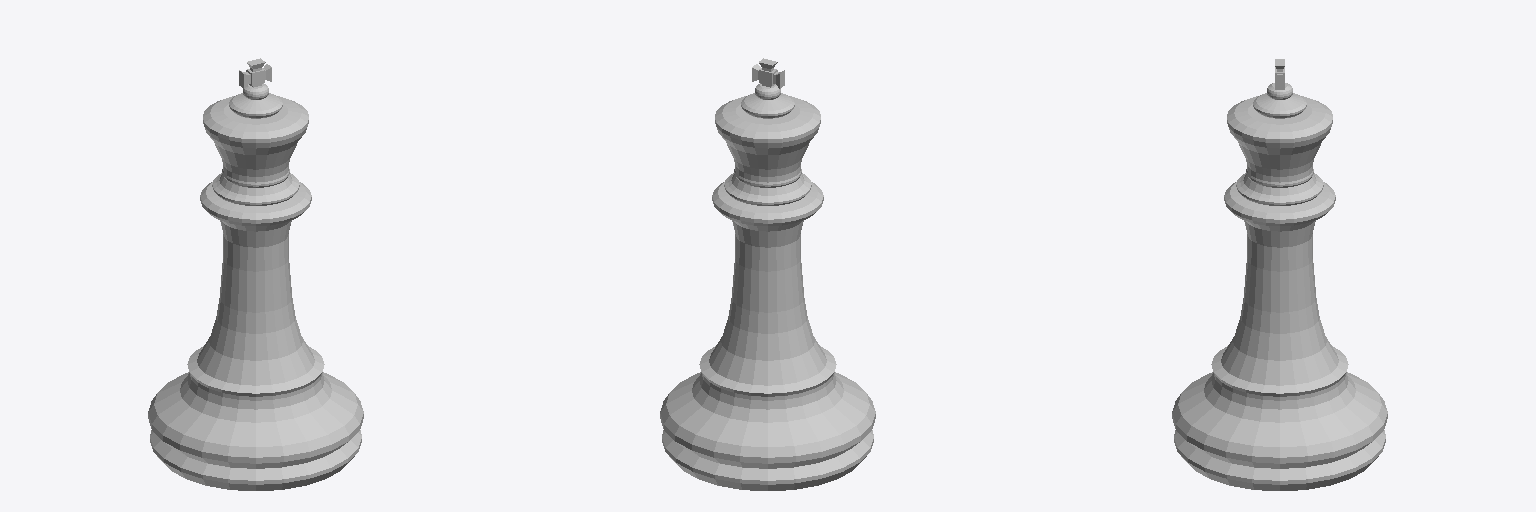
Rendered from king.obj.
The picture shows the model from 3 angles: view 1: azimuth 30°, elevation 25°; view 2: azimuth 150°, elevation 25°; view 3: azimuth 270°, elevation 25°; orthographic projection.
Visible parts, largest first — view 1: Mesh1_Model, Mesh2_Model; view 2: Mesh1_Model, Mesh2_Model; view 3: Mesh1_Model.
Part boxes in pixels (bbox=[...]): Mesh1_Model: bbox=[148, 83, 363, 490]; Mesh2_Model: bbox=[239, 58, 271, 88]; Mesh1_Model: bbox=[660, 83, 875, 490]; Mesh2_Model: bbox=[752, 58, 784, 88]; Mesh1_Model: bbox=[1172, 83, 1387, 490].
Size of the model in its own units: 0.9867 by 1.96 by 0.9867.